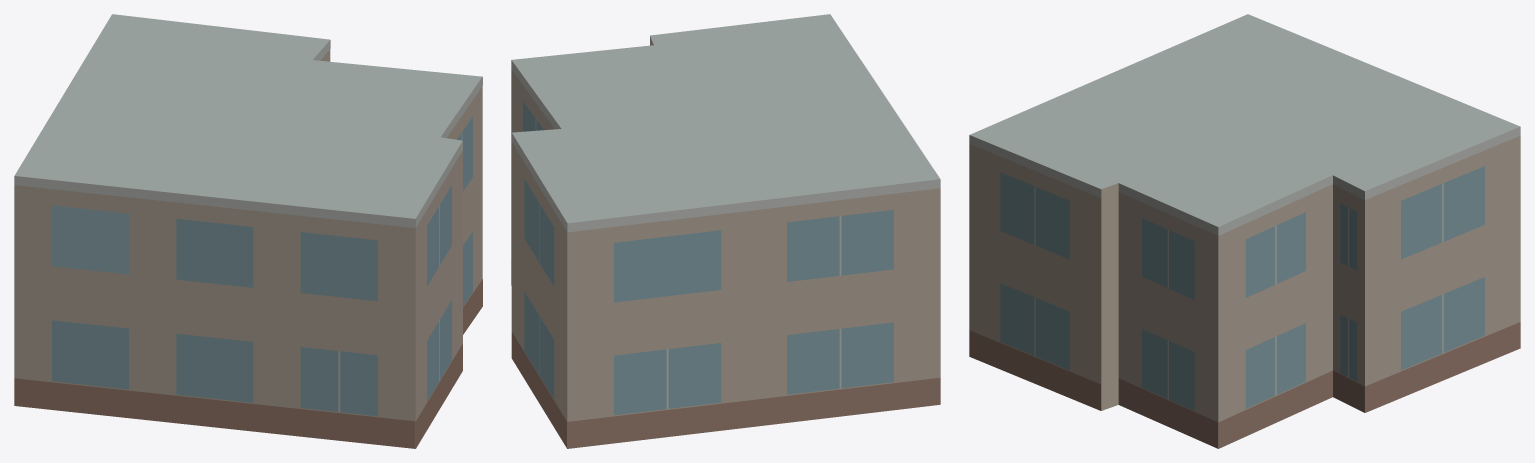
File: survey-upis-32952353.glb
The picture shows the model from 3 angles, left to right: view 1: azimuth 30°, elevation 25°; view 2: azimuth 150°, elevation 25°; view 3: azimuth 270°, elevation 25°; orthographic projection. The views are drawn at different scales.
Visible parts, largest first — view 1: survey-upis-32952353.tmp; view 2: survey-upis-32952353.tmp; view 3: survey-upis-32952353.tmp.
Part boxes in pixels (x1,y1,x2,y2): survey-upis-32952353.tmp: [14, 14, 482, 448]; survey-upis-32952353.tmp: [511, 14, 940, 448]; survey-upis-32952353.tmp: [969, 14, 1520, 448].
Bounding box in the file's own units: 12.58 × 6.1 × 13.75.
